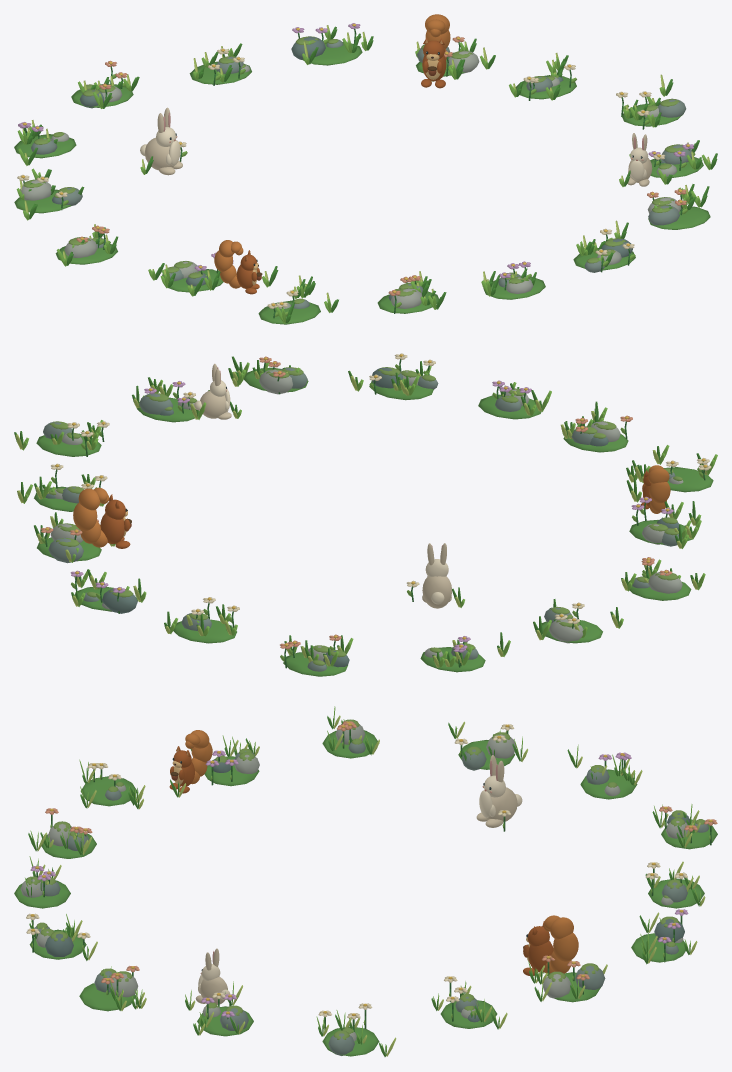
The model's file is forest_details.glb.
3 renders of one model, top to bottom at view 1: azimuth 30°, elevation 25°; view 2: azimuth 150°, elevation 25°; view 3: azimuth 270°, elevation 25°, orthographic. The views are drawn at different scales.
Visible parts, largest first — view 1: world; view 2: world; view 3: world.
Boxes of the visible parts, x1,y1,x2,y2 form: world: (14, 14, 717, 324); world: (14, 353, 717, 676); world: (14, 706, 717, 1056).
Bounding box in the file's own units: 6.71 × 0.6238 × 5.92.
